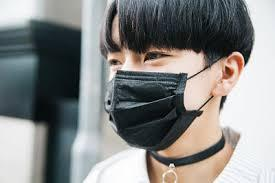mask: (103, 66, 200, 154)
